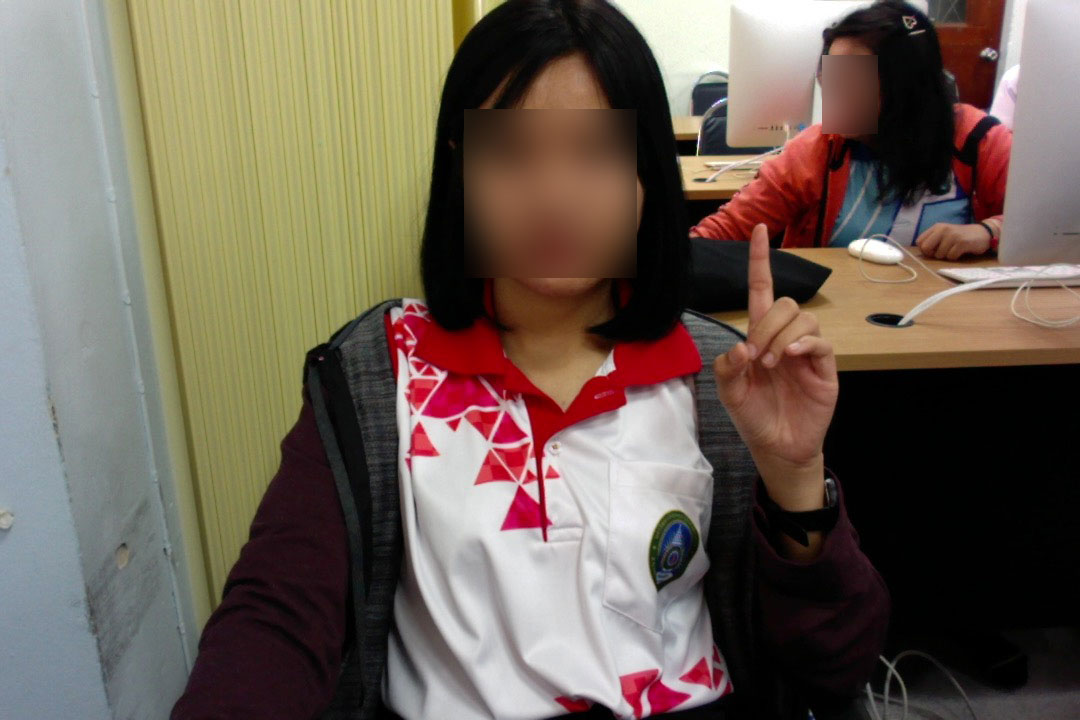dor: (708, 214, 846, 486)
